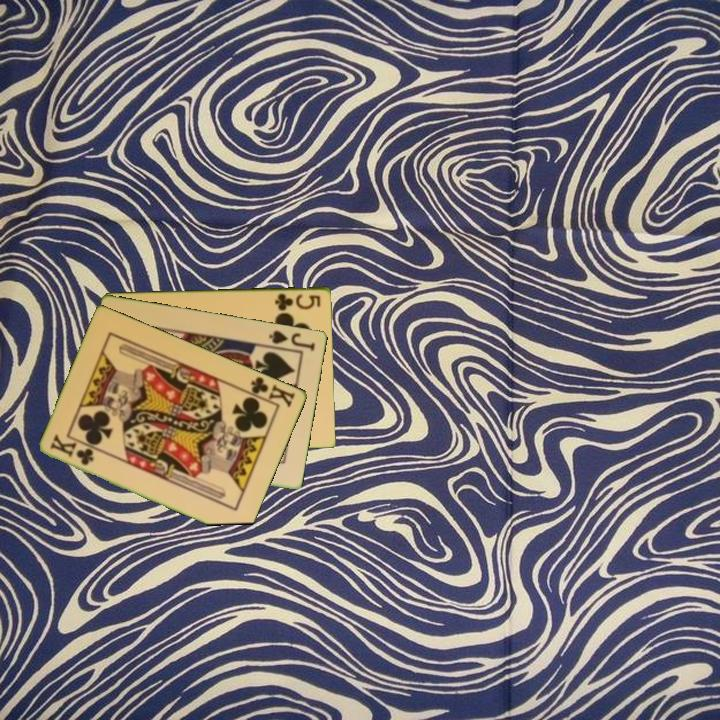5c: (272, 290, 324, 313)
Js: (266, 326, 318, 354)
Kc: (242, 373, 298, 410), (47, 432, 97, 468)
